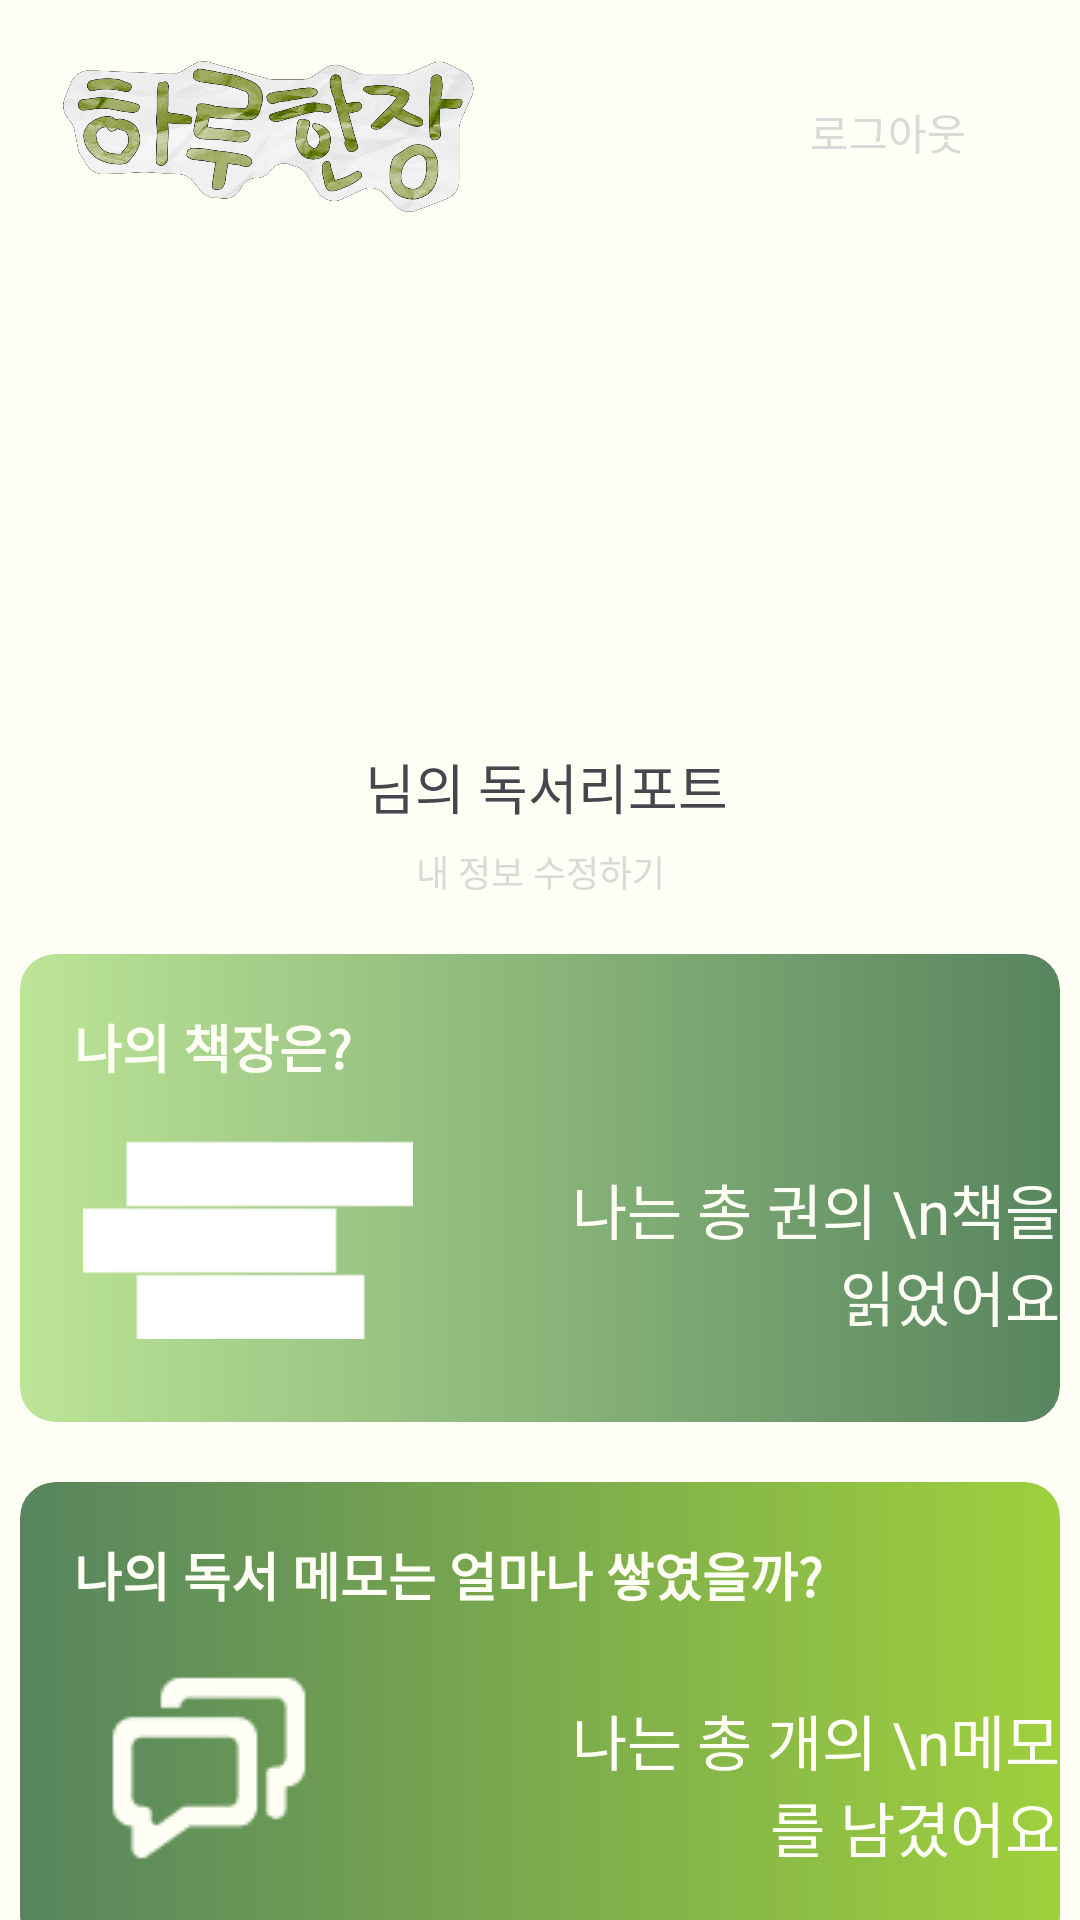

Point at icon controls on the screen. Image size 1080 × 1920, points as (x,y).
messages: (252,1781)
